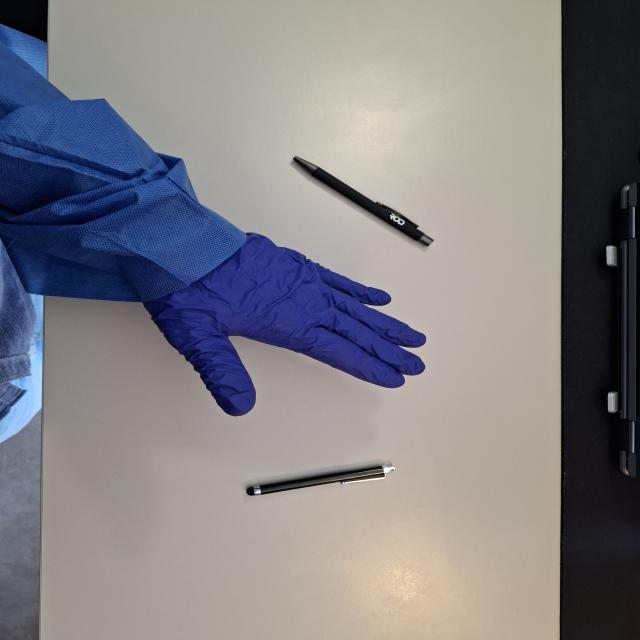glove_on: (132, 230, 428, 415)
